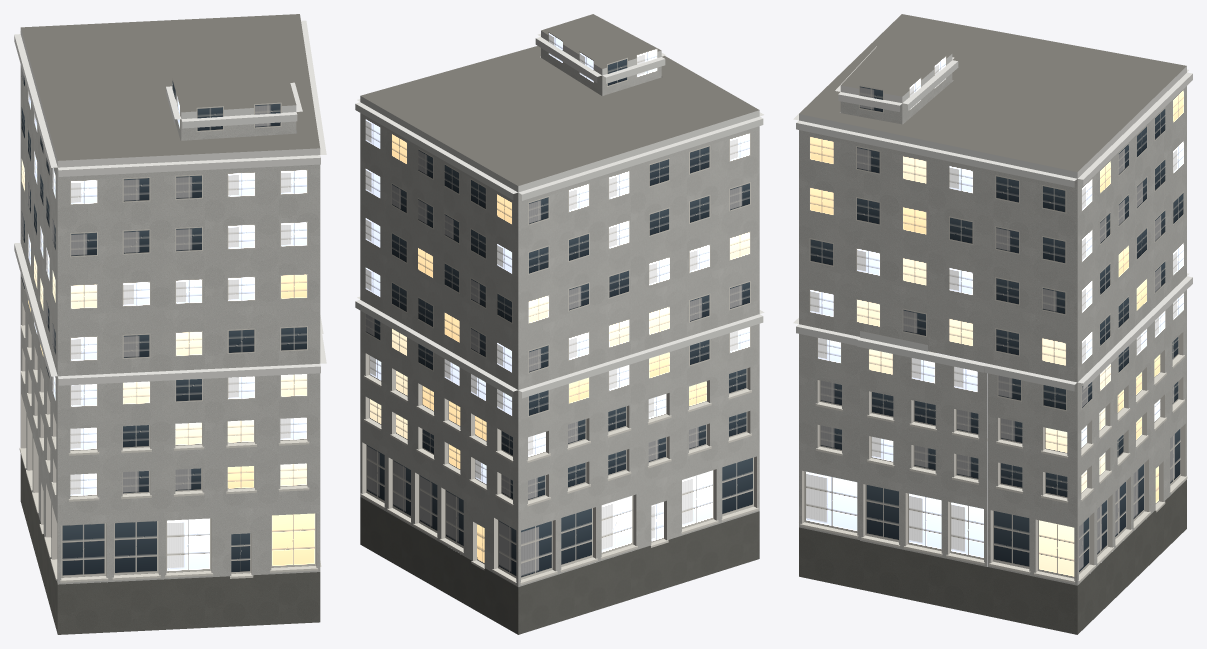
File: z5b_altst149.glb
The picture shows the model from 3 angles, left to right: view 1: azimuth 30°, elevation 25°; view 2: azimuth 150°, elevation 25°; view 3: azimuth 270°, elevation 25°; orthographic projection. The views are drawn at different scales.
Visible parts, largest first — view 1: z5b_altst149; view 2: z5b_altst149; view 3: z5b_altst149.
Boxes of the visible parts, left/top/right/bottom form: z5b_altst149: left=14, top=14, right=326, bottom=634; z5b_altst149: left=355, top=14, right=764, bottom=634; z5b_altst149: left=793, top=14, right=1192, bottom=634.
Size of the model in its own units: 21.31 by 30.11 by 22.08.
3 materials, 3 textured.
